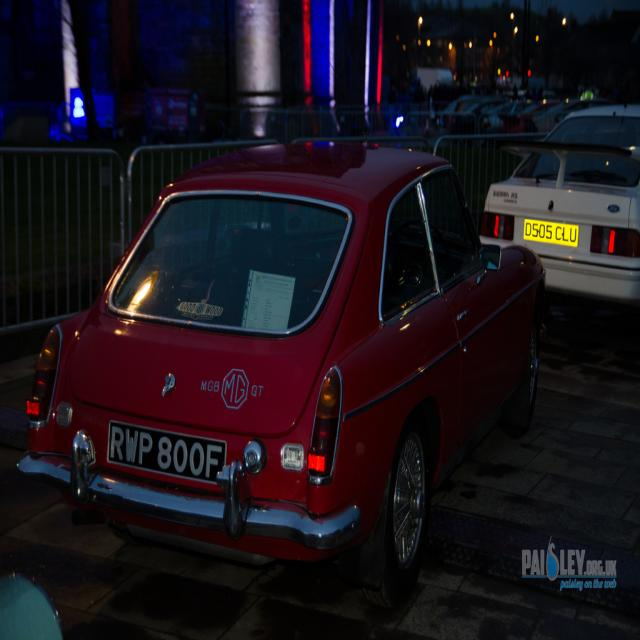car: (29, 130, 519, 593)
